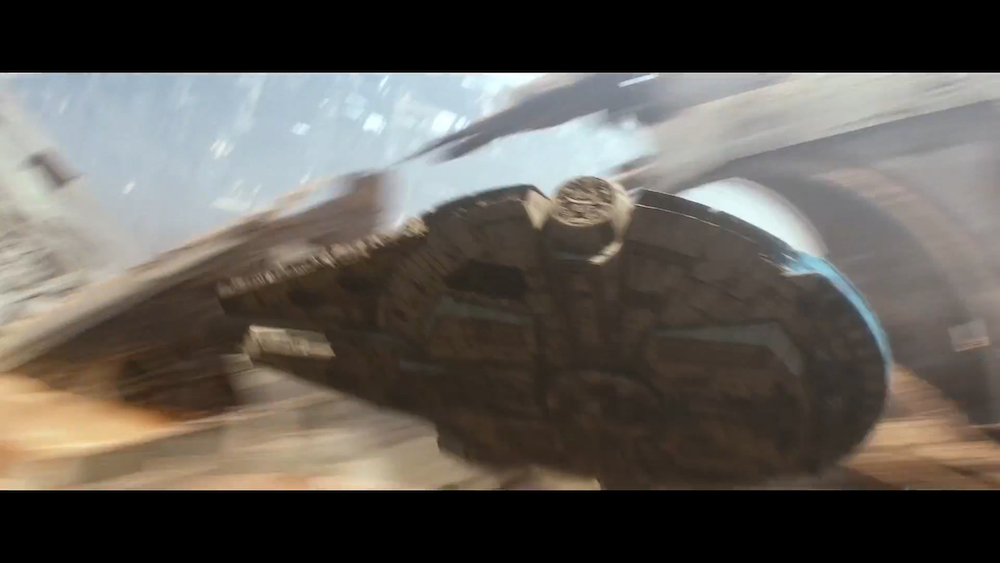Millennium Falcon: (217, 174, 891, 490)
